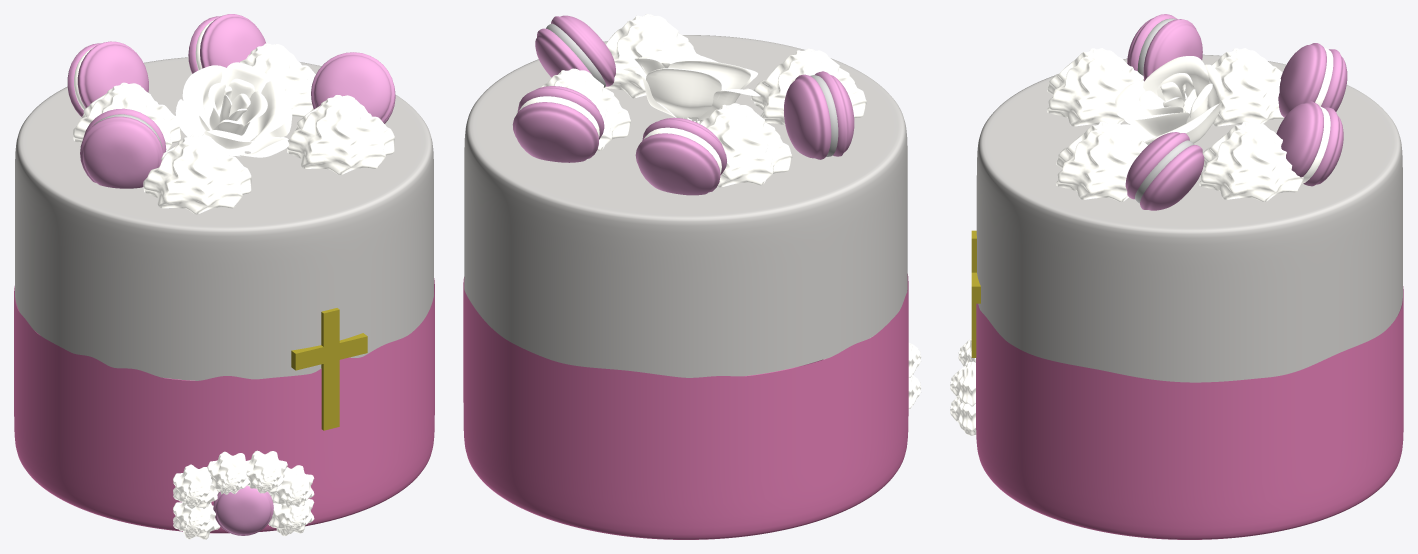
File: Christening_4.glb
The picture shows the model from 3 angles, left to right: view 1: azimuth 30°, elevation 25°; view 2: azimuth 150°, elevation 25°; view 3: azimuth 270°, elevation 25°; orthographic projection. The views are drawn at different scales.
Parts seen in each view (by area): view 1: Circle, Circle.001, Torus.003, Plane.006, Swirl3.008, Swirl3.007, Torus.001, Torus.013, Torus.006, Cube.001, Torus.007, Swirl3.009 (+1 smaller); view 2: Circle, Circle.001, Plane.006, Torus.007, Torus.006, Torus.001, Swirl3.009, Torus.013, Swirl3.008, Swirl3.007, Swirl3.010, Torus.003; view 3: Circle, Circle.001, Plane.006, Swirl3.010, Swirl3.007, Swirl3.008, Torus.013, Swirl3.009, Torus.007, Torus.006, Torus.001, Torus.003 (+1 smaller).
Part boxes in pixels (x1,y1,x2,y2): Circle: (15, 57, 433, 380); Circle.001: (14, 278, 434, 533); Torus.003: (173, 450, 314, 539); Plane.006: (175, 62, 292, 157); Swirl3.008: (287, 95, 394, 174); Swirl3.007: (143, 134, 251, 214); Torus.001: (80, 108, 166, 188); Torus.013: (311, 52, 395, 123); Torus.006: (67, 41, 148, 117); Cube.001: (291, 308, 367, 430); Torus.007: (188, 14, 265, 73); Swirl3.009: (73, 82, 180, 151); Circle: (464, 35, 907, 377); Circle.001: (463, 274, 908, 539); Plane.006: (623, 50, 760, 123); Torus.007: (512, 86, 604, 162); Torus.006: (635, 117, 726, 195); Torus.001: (783, 71, 854, 159); Swirl3.009: (700, 103, 792, 187); Torus.013: (535, 15, 615, 87); Swirl3.008: (605, 14, 699, 98); Swirl3.007: (751, 48, 866, 125); Swirl3.010: (515, 68, 630, 150); Torus.003: (823, 334, 921, 408); Circle: (976, 54, 1402, 382); Circle.001: (976, 286, 1403, 539); Plane.006: (1115, 56, 1221, 145); Swirl3.010: (1199, 121, 1303, 201); Swirl3.007: (1046, 48, 1144, 126); Swirl3.008: (1055, 121, 1147, 201); Torus.013: (1125, 132, 1204, 210); Swirl3.009: (1211, 48, 1284, 126); Torus.007: (1276, 101, 1343, 186); Torus.006: (1278, 43, 1347, 117); Torus.001: (1127, 14, 1202, 81); Torus.003: (950, 338, 976, 435).
Bounding box in the file's own units: 0.1496 × 0.148 × 0.1586.
